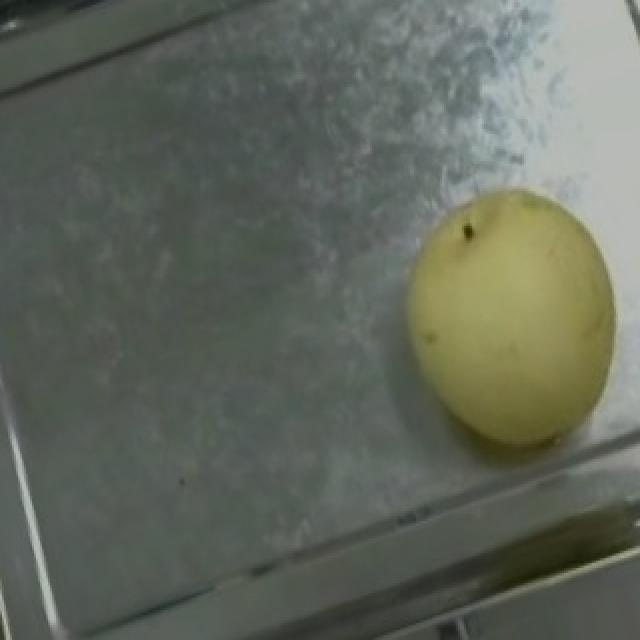Fruit: (356, 156, 640, 484)
